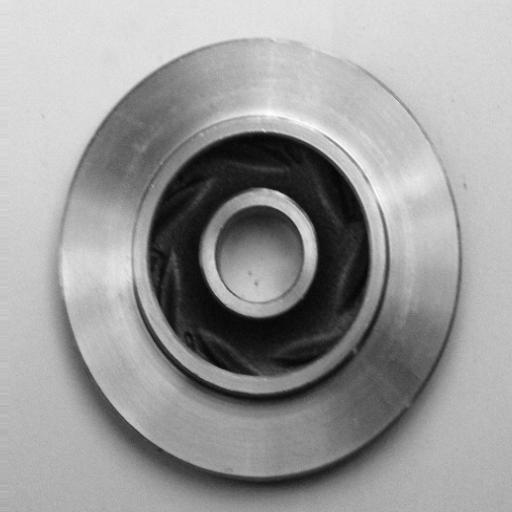unpolished_casting: (52, 36, 472, 487)
